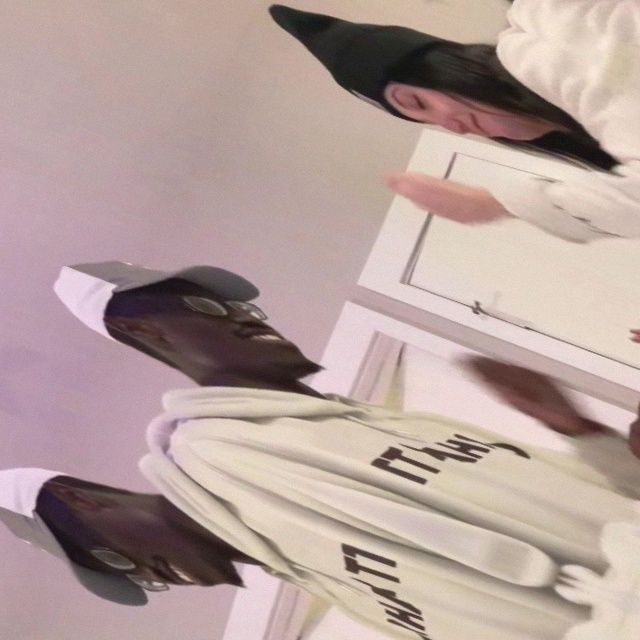Rock: (447, 343, 610, 440), (375, 154, 524, 245)
